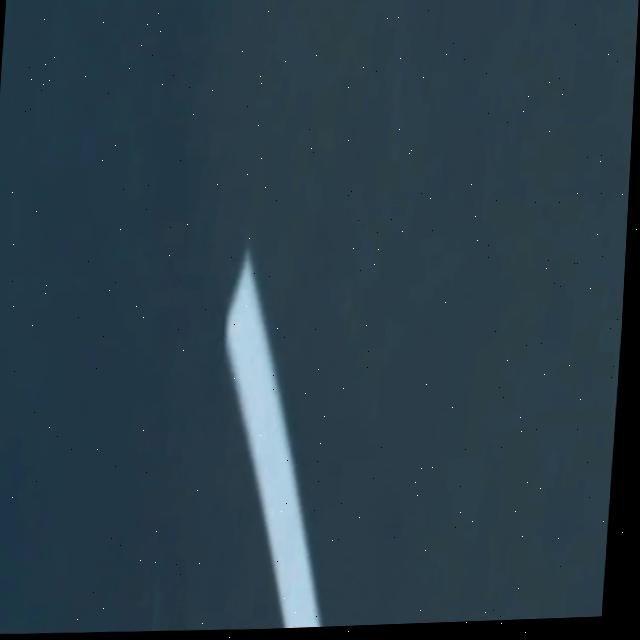center: (225, 250, 320, 628)
